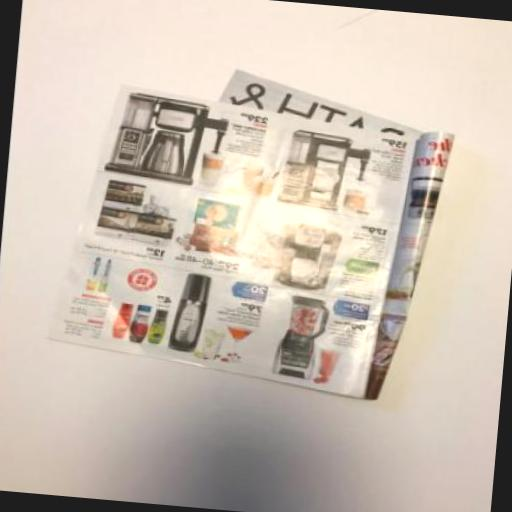paper: (40, 79, 414, 402), (192, 65, 459, 402)
